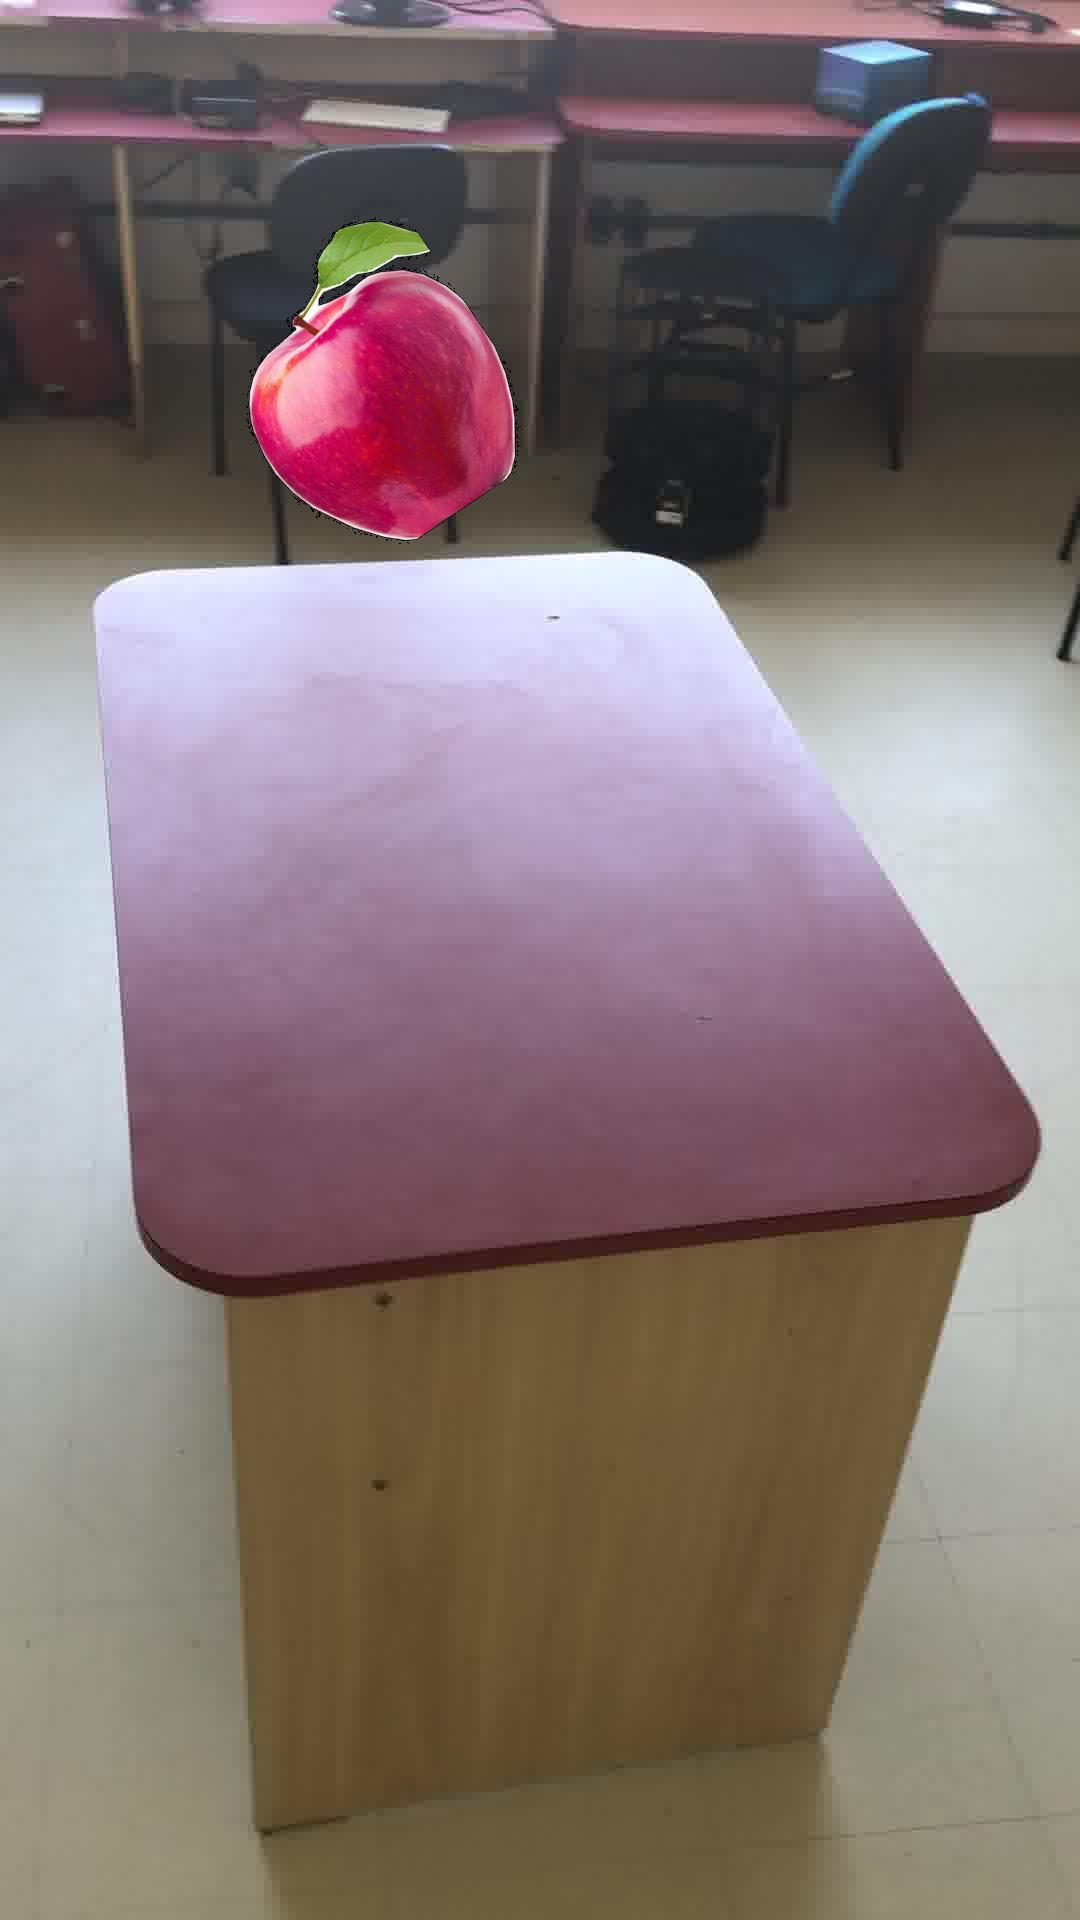apple: (247, 218, 517, 539)
